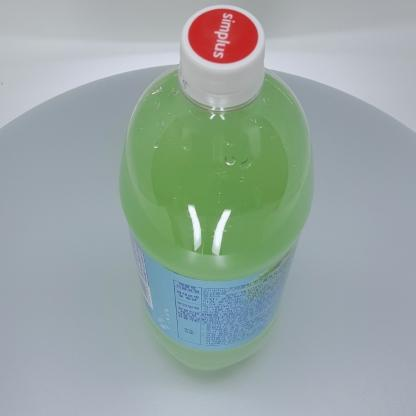---------------: (119, 4, 315, 372)
